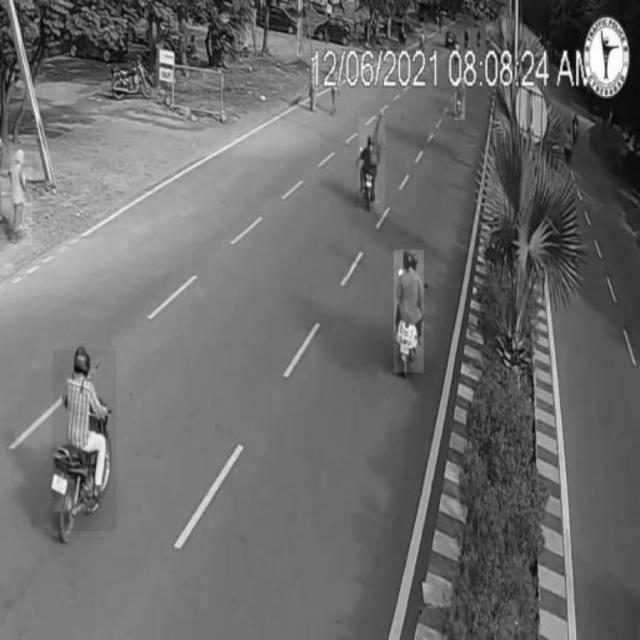accident: (359, 118, 385, 212)
person: (10, 150, 34, 244)
vehicle: (53, 351, 117, 531), (394, 250, 424, 372), (455, 78, 465, 120)
